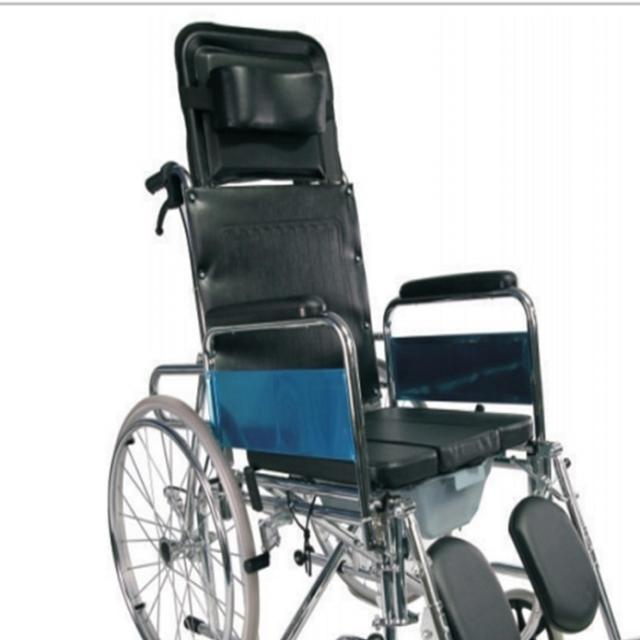wheelchair: (89, 14, 627, 640)
